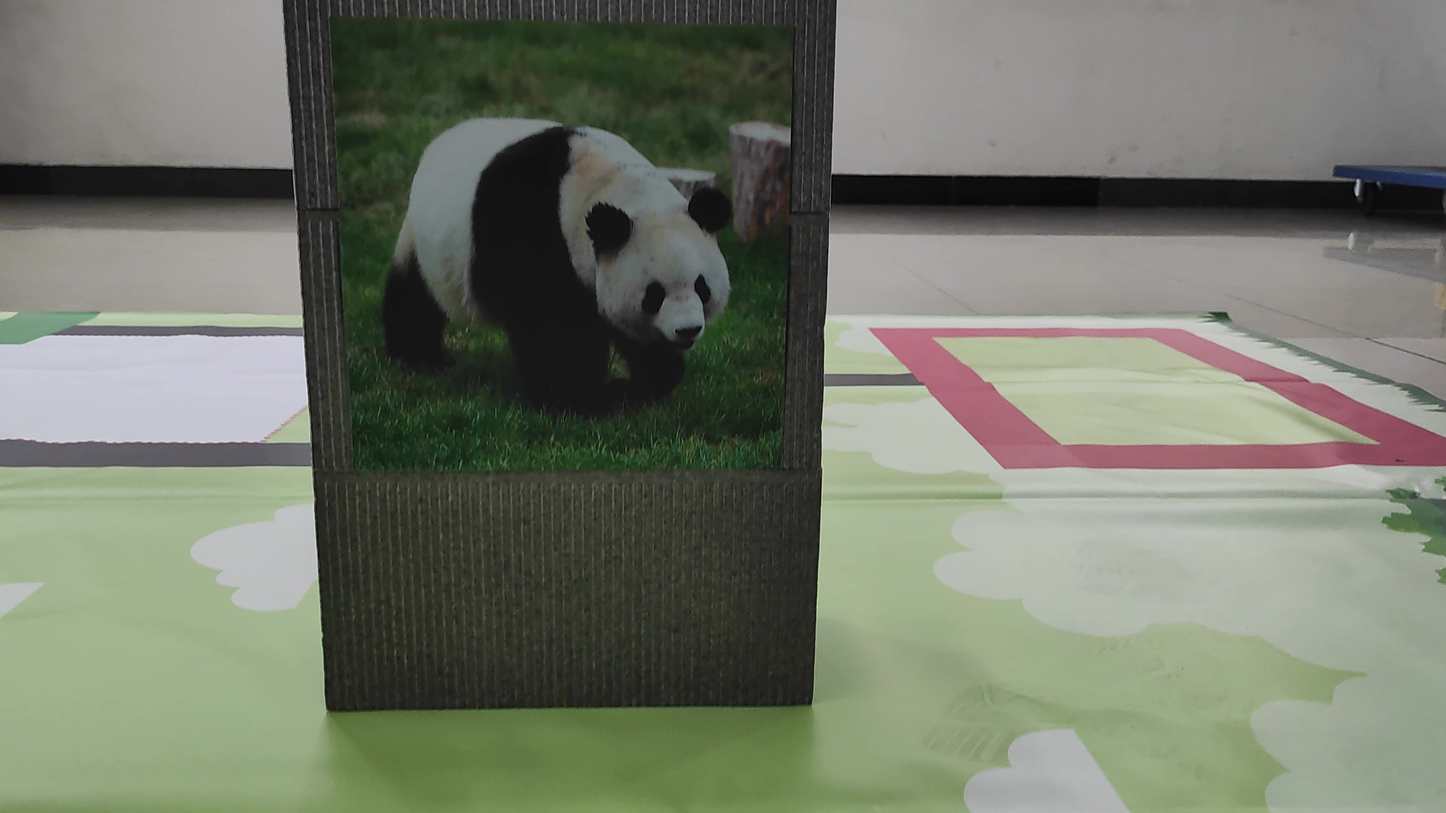panda: (351, 94, 763, 426)
